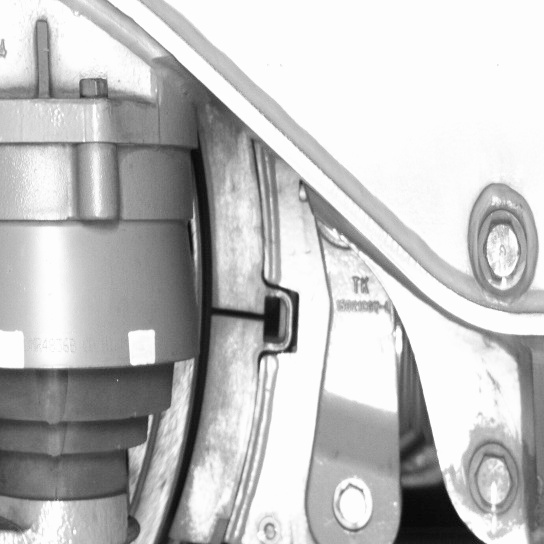KnifeSwitch: (150, 145, 287, 541)
